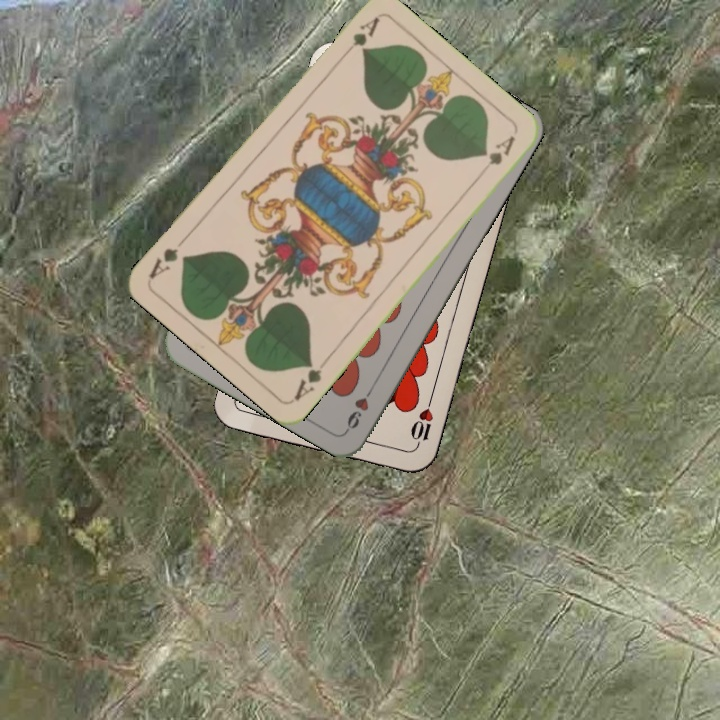GA: (289, 353, 332, 403), (338, 13, 382, 61)
H10: (406, 395, 437, 453)
H9: (341, 380, 378, 433)
